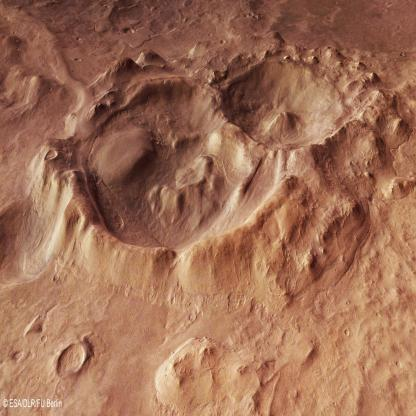craters: (49, 66, 260, 278), (214, 38, 370, 159), (44, 341, 92, 389)
